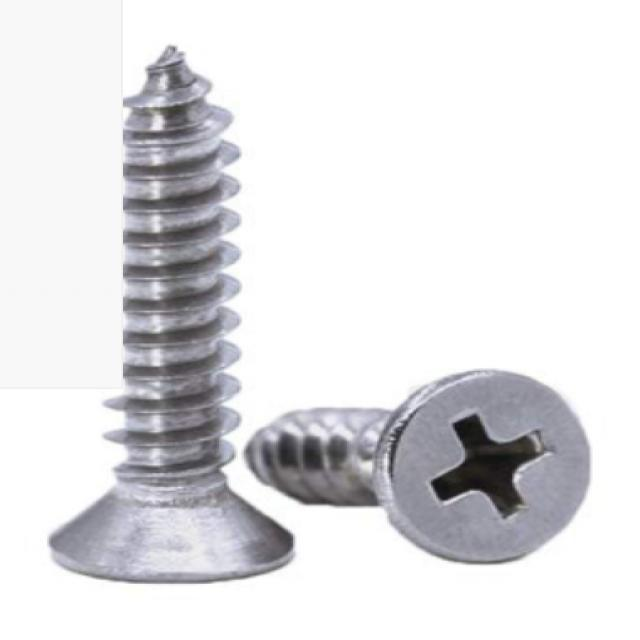Screw: (246, 372, 591, 564)
